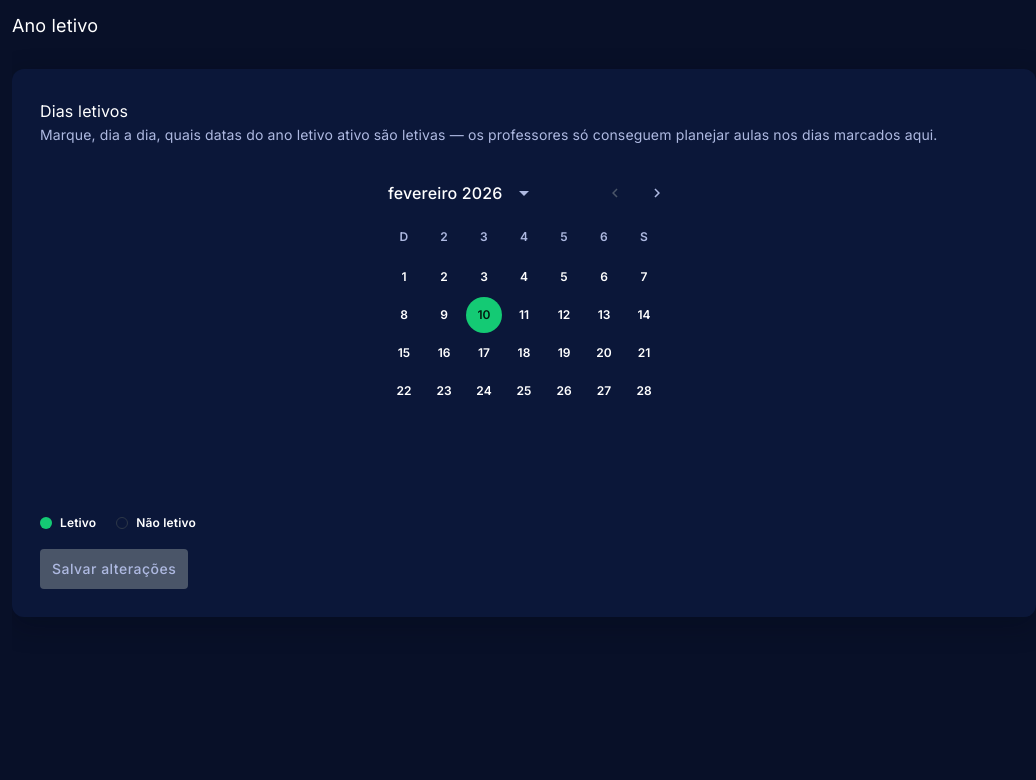
LessonPlans page — admin view (BR-SY10) › lets someone with manage_school_settings toggle a day and save the change
Check: the text "Dias letivos" is shown, box [40,101,128,121]
Click the cell "12" at (564, 315), box [546,297,582,333]
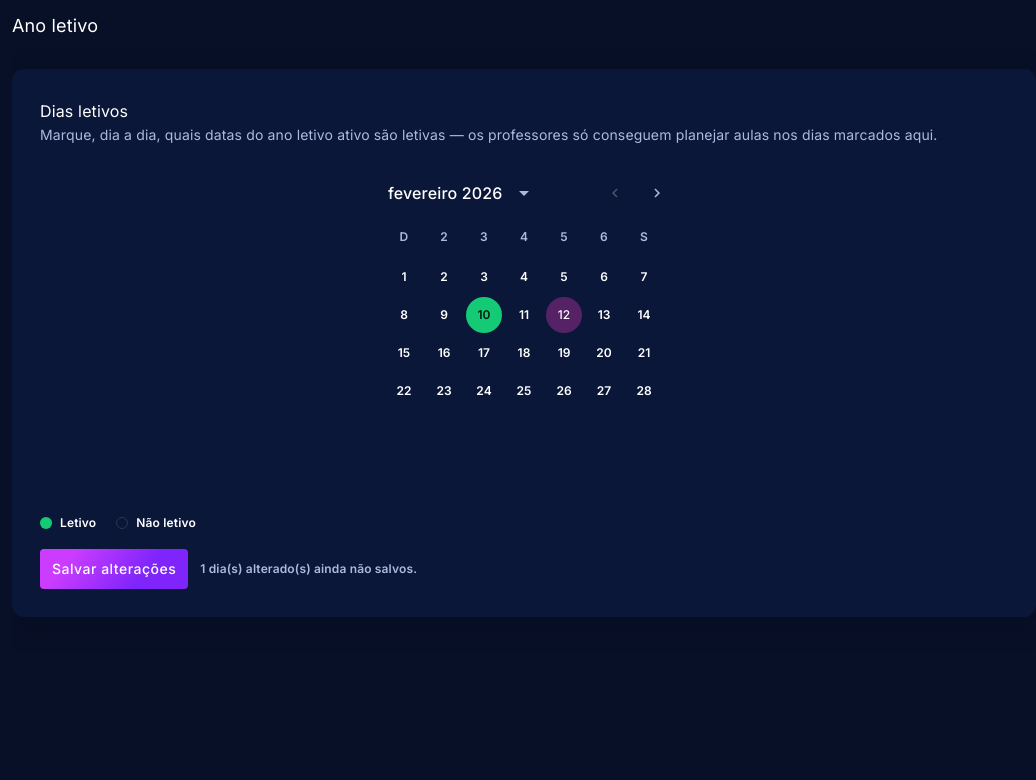
Click the button "Salvar alterações" at (114, 569), box [40,549,188,589]
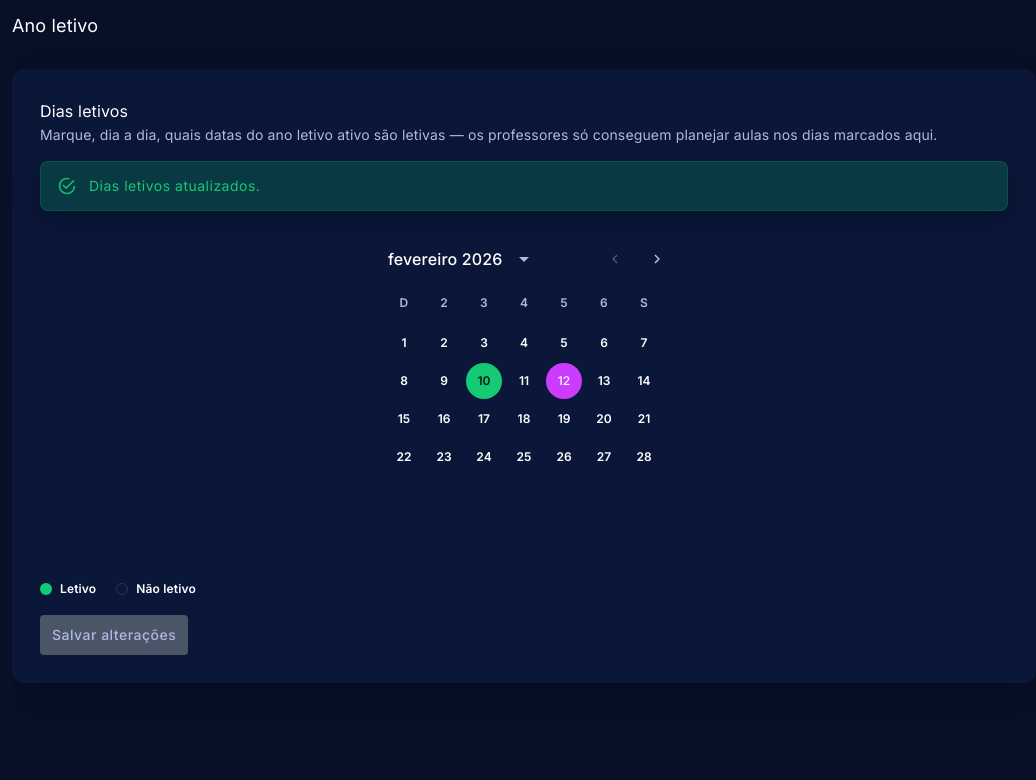
Check: the text "Dias letivos atualizados." is shown, box [89,177,260,194]
